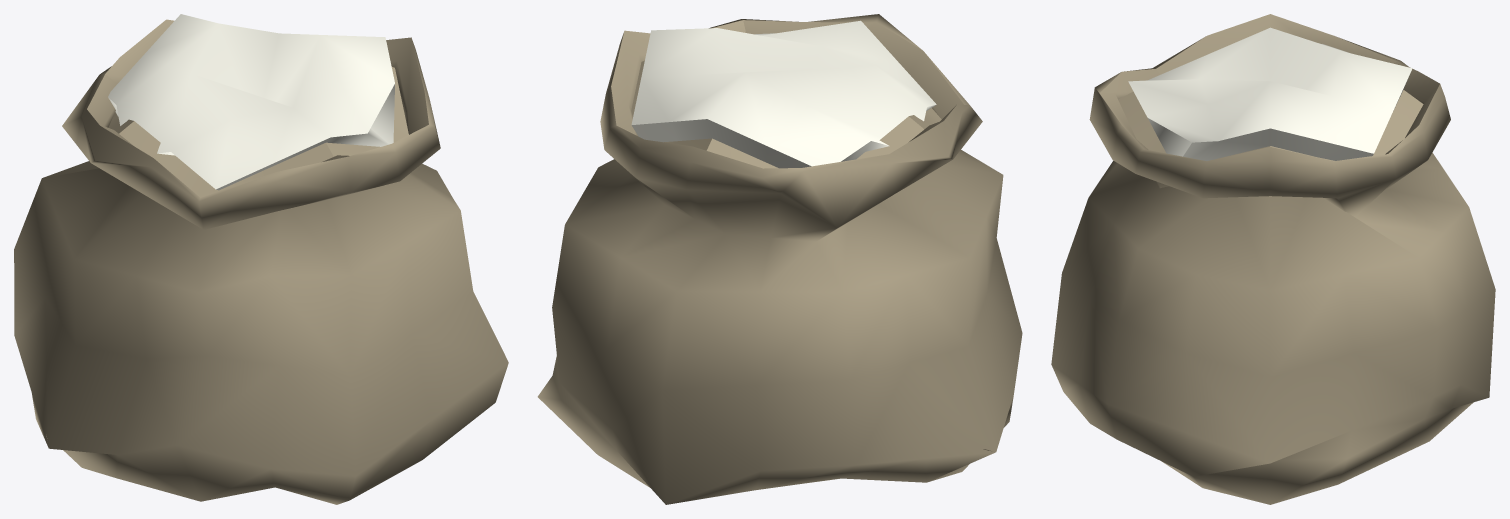
File: flour.fbx
The picture shows the model from 3 angles, left to right: view 1: azimuth 30°, elevation 25°; view 2: azimuth 150°, elevation 25°; view 3: azimuth 270°, elevation 25°; orthographic projection. The views are drawn at different scales.
Parts seen in each view (by area): view 1: flour1; view 2: flour1; view 3: flour1.
Part boxes in pixels (x1,y1,x2,y2): flour1: [14, 14, 508, 504]; flour1: [537, 14, 1022, 504]; flour1: [1051, 14, 1495, 504].
Size of the model in its own units: 1.96 by 1.69 by 1.86.
